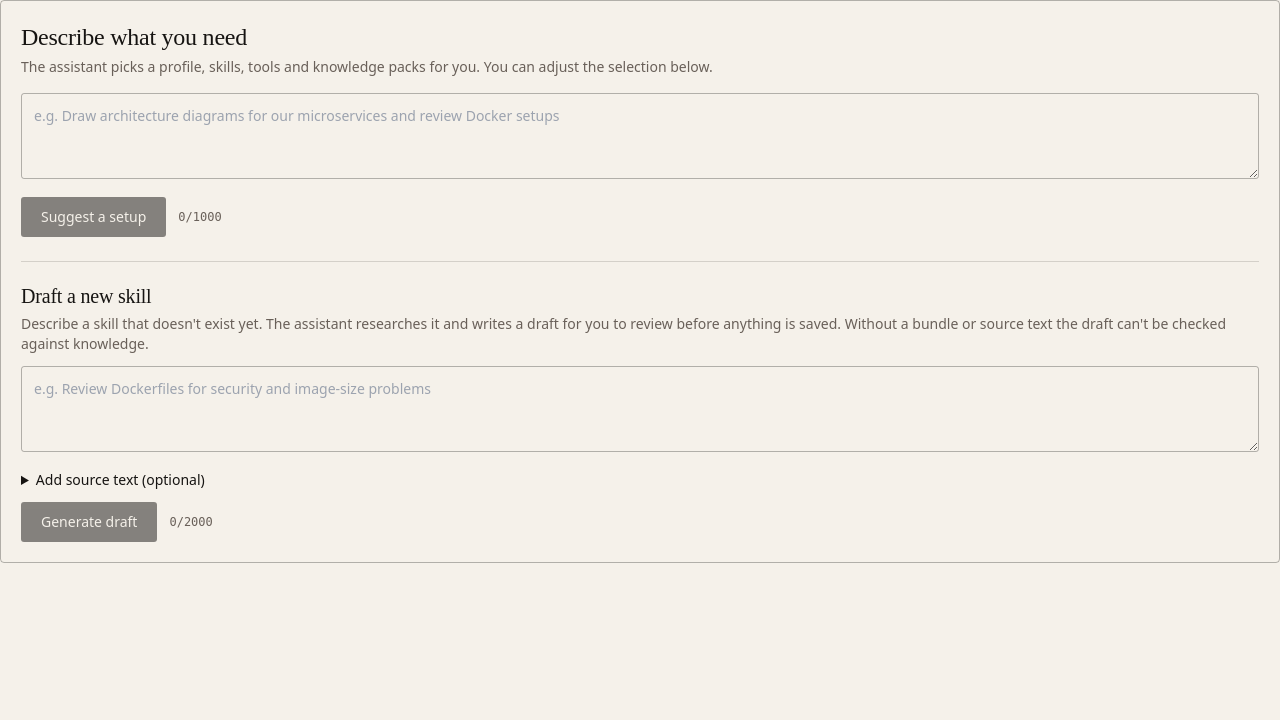
HintPanel: "Not in the catalog" section › shows a button for skill gaps and admin text for tool and pack gaps
Type "review docker" into the text box named "What should the agent do?". click: (640, 136)
box: x1=21 y1=93 x2=1259 y2=179
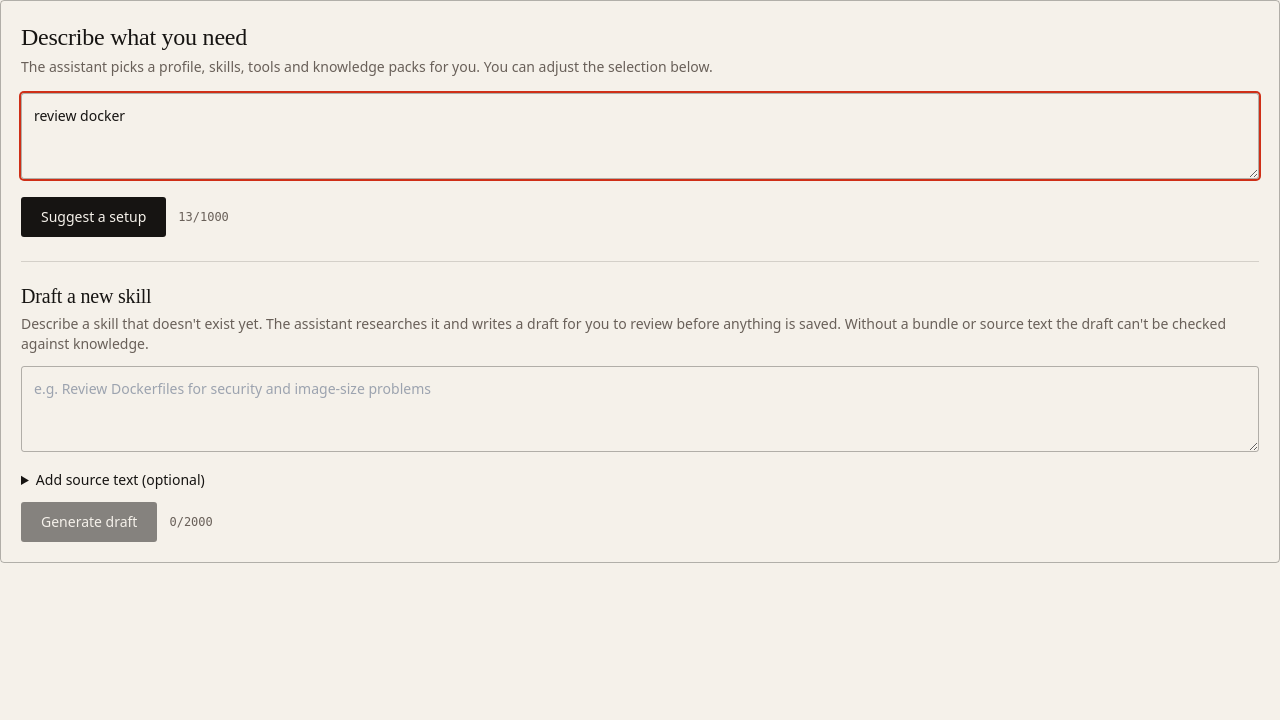
Click the button "Suggest a setup". click: click(94, 217)
box: x1=21 y1=197 x2=166 y2=237
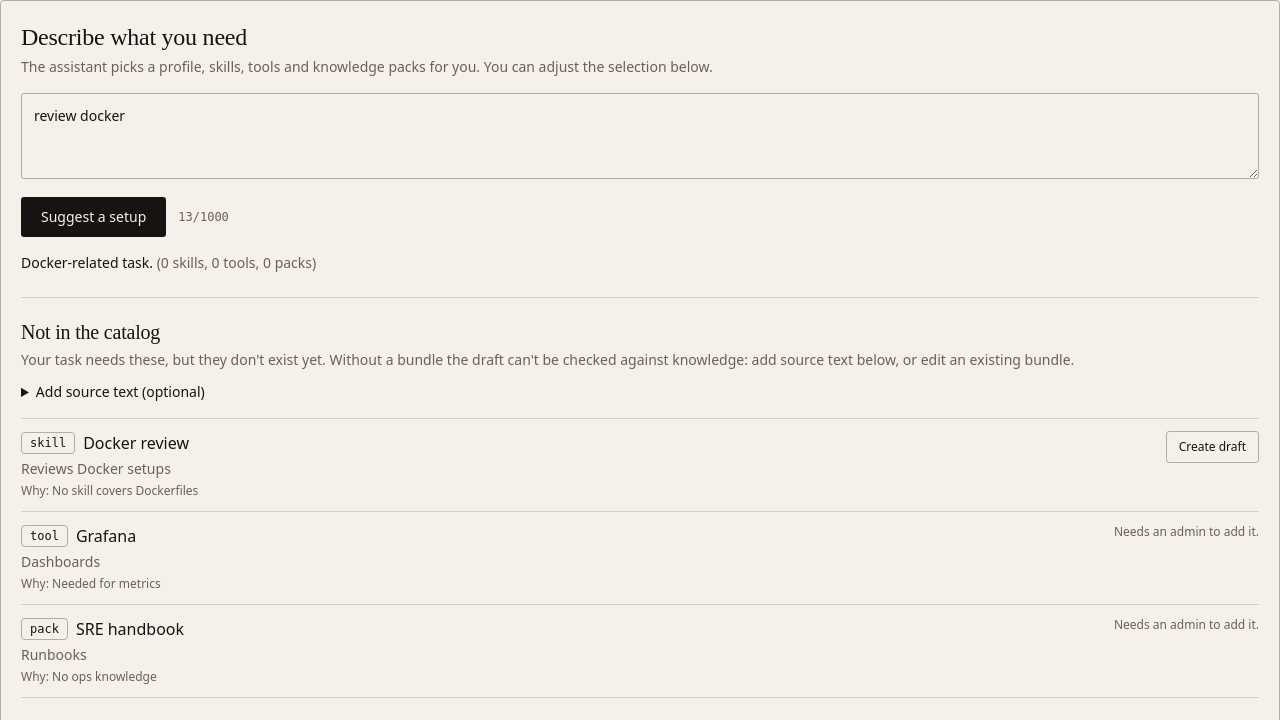
Result: the text "Docker-related task. (0 skills, 0 tools, 0 packs)" is shown at x1=21 y1=253 x2=316 y2=272
Result: the heading "Not in the catalog" is shown at x1=21 y1=321 x2=160 y2=343
Result: the button with aria-label "Create draft: Docker review" is enabled at x1=1166 y1=431 x2=1259 y2=463
